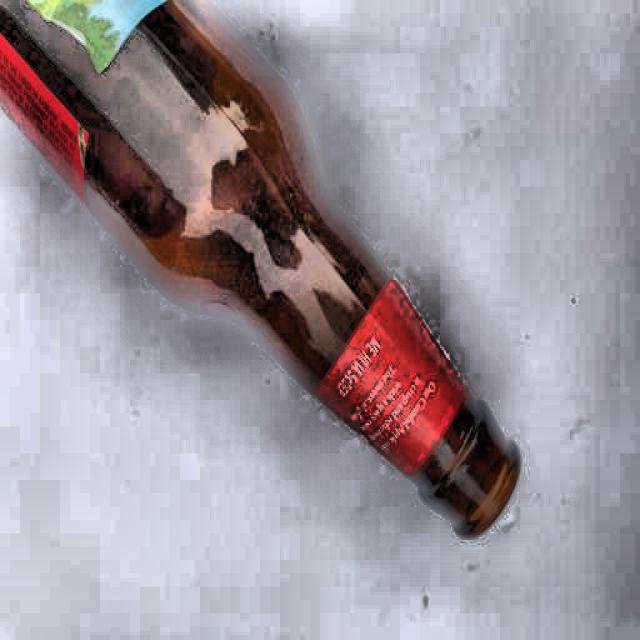glass: (0, 0, 521, 548)
